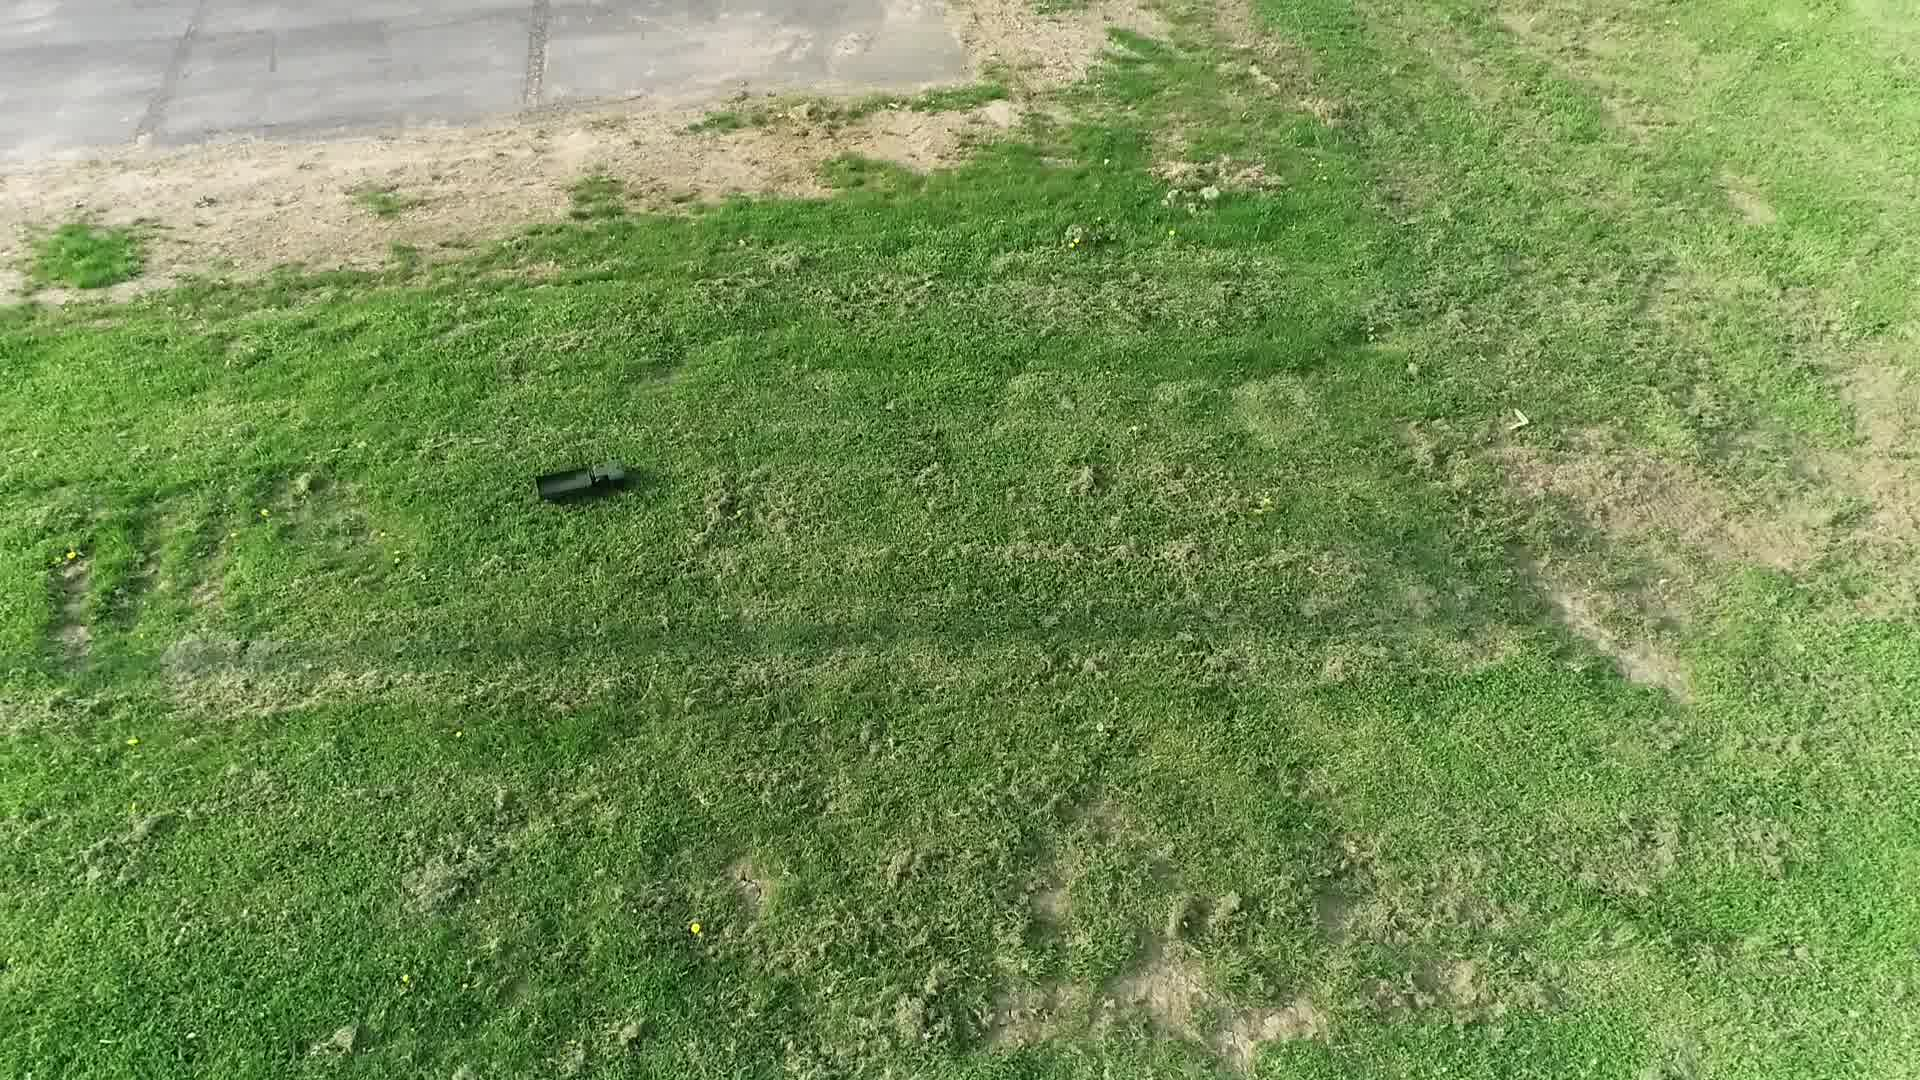transporter9: (529, 455, 642, 506)
